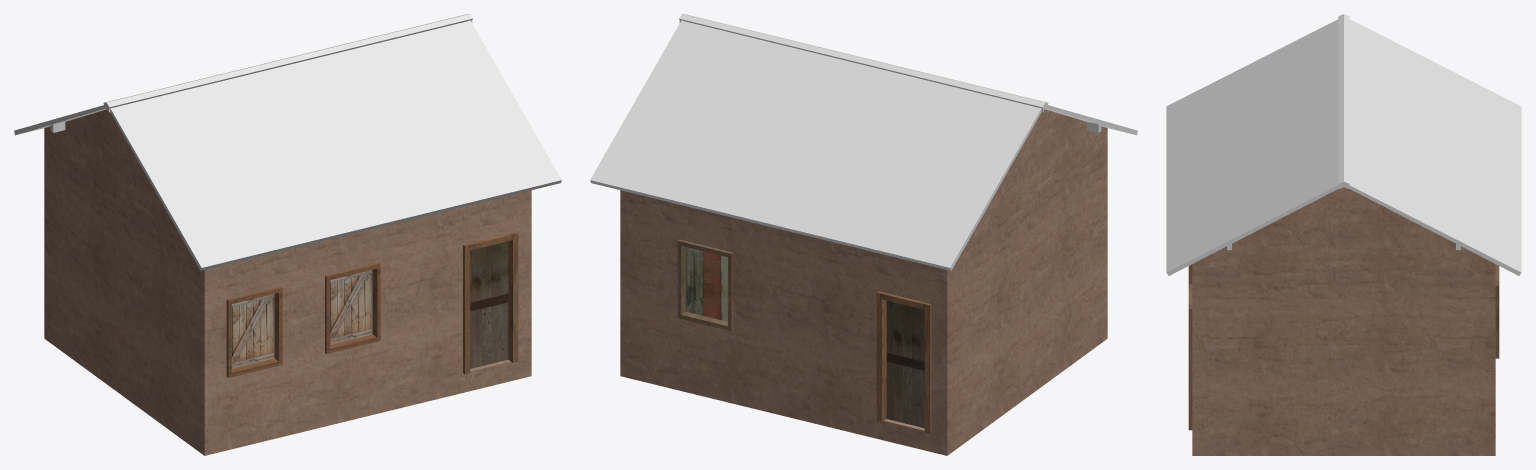
Rendered from 02_casa.fbx.
3 renders of one model, left to right at view 1: azimuth 30°, elevation 25°; view 2: azimuth 150°, elevation 25°; view 3: azimuth 270°, elevation 25°, orthographic. The views are drawn at different scales.
Parts seen in each view (by area): view 1: casa2_LOD0, telhado; view 2: casa2_LOD0, telhado; view 3: casa2_LOD0, telhado.
Boxes of the visible parts, x1,y1,x2,y2 form: casa2_LOD0: (44,14,531,455); telhado: (14,20,561,270); casa2_LOD0: (620,14,1107,455); telhado: (590,20,1137,270); casa2_LOD0: (1188,14,1499,455); telhado: (1166,19,1521,275).
Size of what is drawn, in the model's own units: 592 by 466 by 530.
